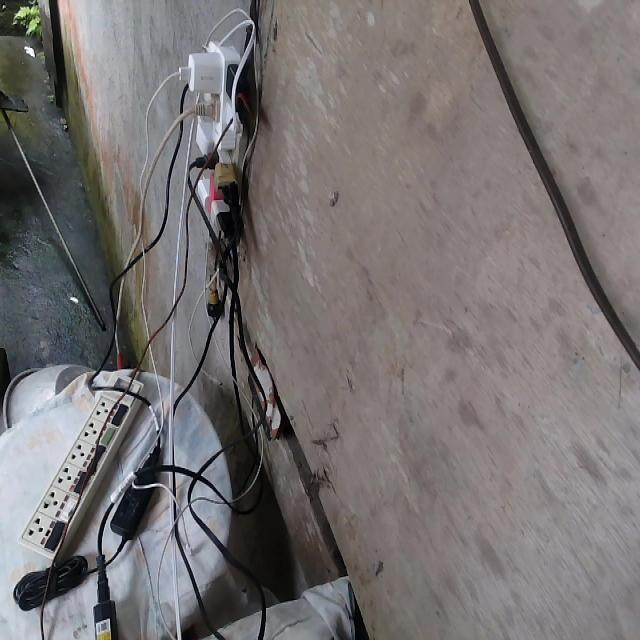-: (175, 39, 260, 248)
